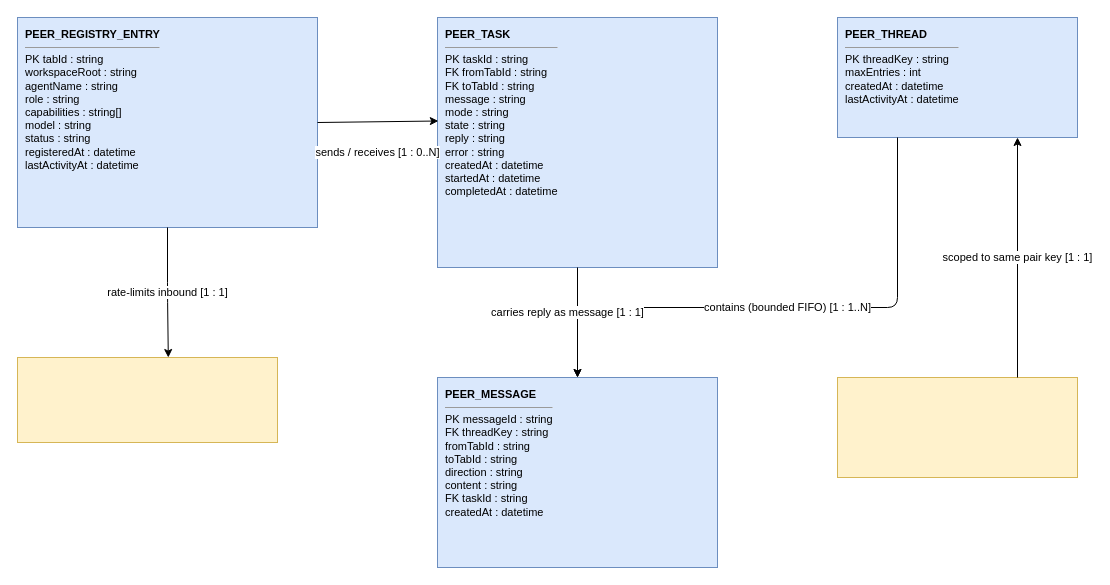
This 1110x585 diagram has some shape labels left out. The box of each missing label's shape, as (x1, y1, x2, y2) in pixels:
GUARD_STATE PK pairKey : string pingpongTurns : int windowStart : datetime: (836, 376, 1078, 478)
RATE_STATE PK tabId : string inboundTimestamps : string[]: (16, 356, 278, 442)
